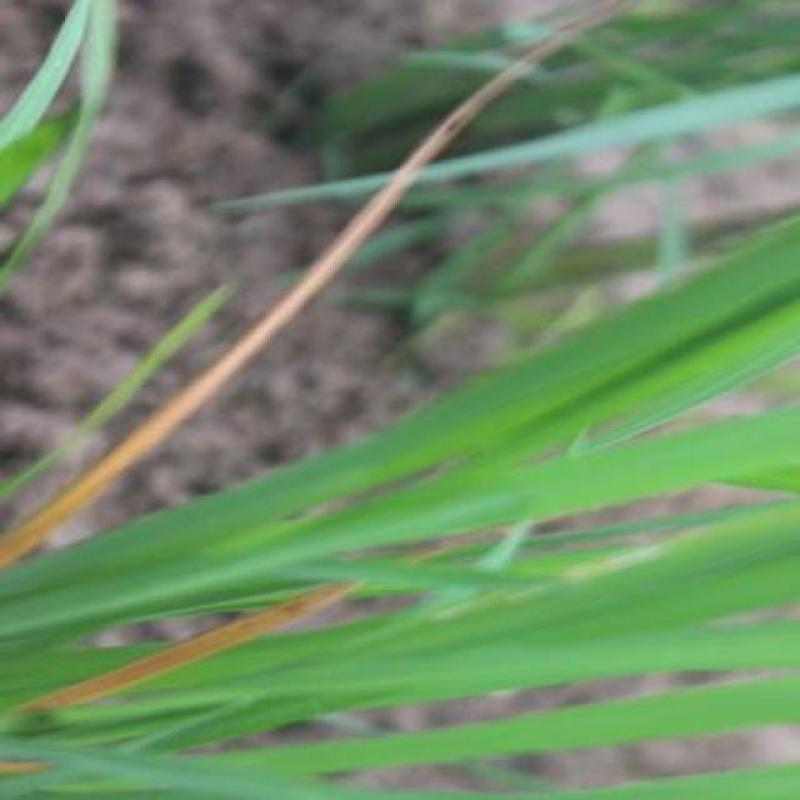Rice Tungro: (1, 210, 332, 570), (64, 610, 324, 699)
